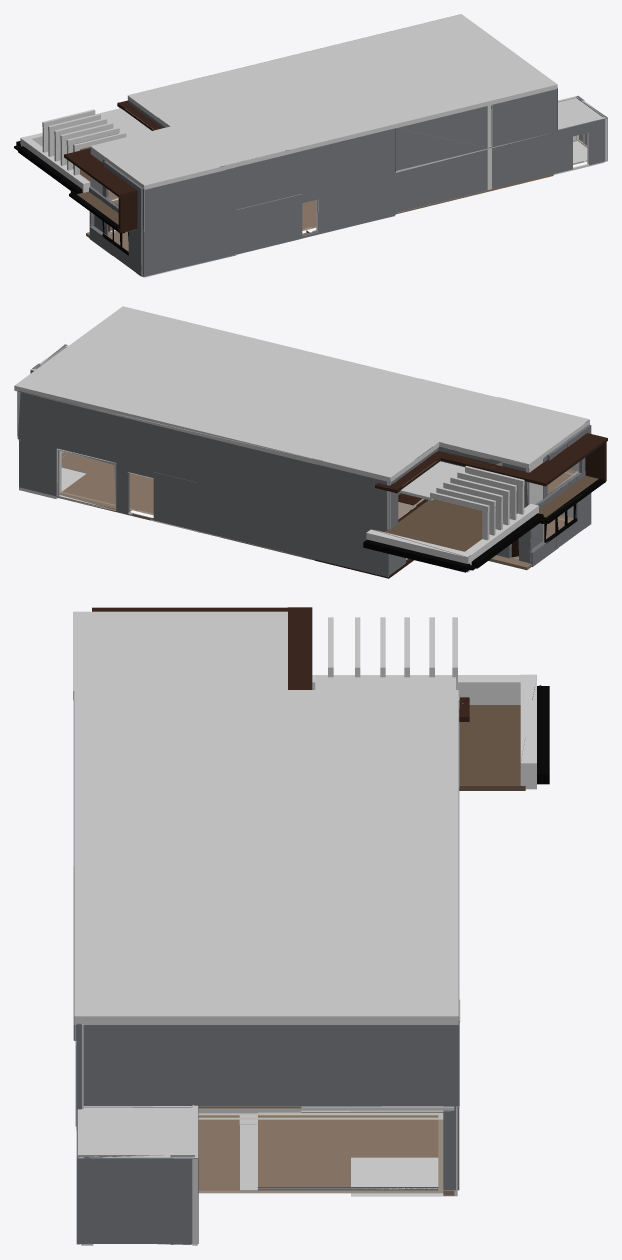
Rendered from modern-house.zfix-v14.lod1.glb.
The picture shows the model from 3 angles, top to bottom: view 1: azimuth 30°, elevation 25°; view 2: azimuth 150°, elevation 25°; view 3: azimuth 270°, elevation 25°; orthographic projection. The views are drawn at different scales.
Visible parts, largest first — view 1: Object_2; view 2: Object_2; view 3: Object_2.
Part boxes in pixels (x1,y1,x2,y2): Object_2: [14, 14, 607, 277]; Object_2: [14, 306, 607, 578]; Object_2: [73, 607, 549, 1245].
Size of the model in its own units: 35.75 by 6.56 by 15.22.
